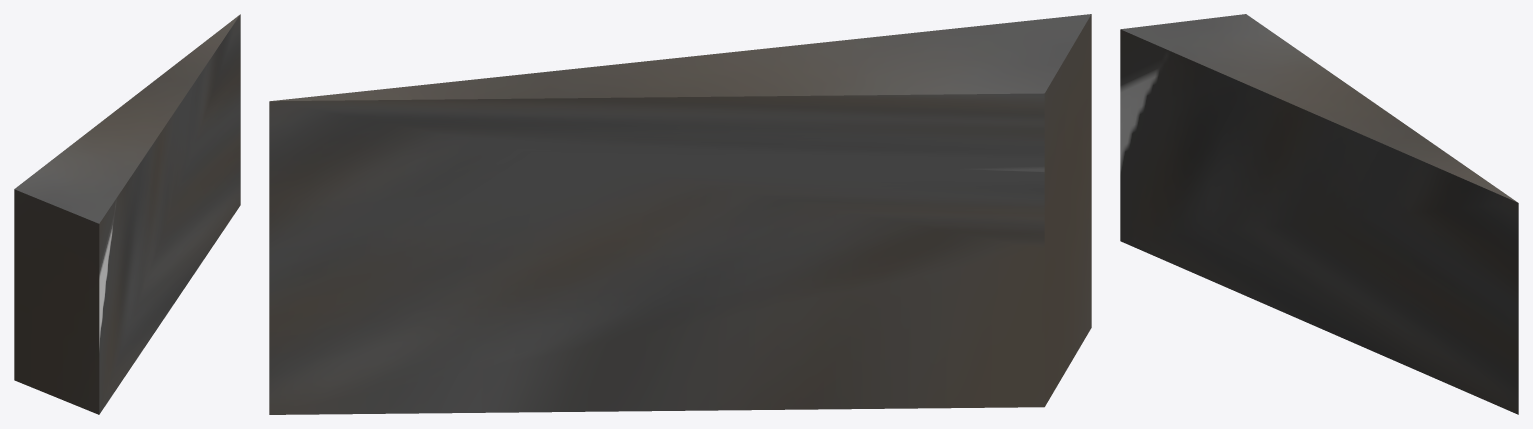
Rendered from ishi_01_10_9.fbx.
3 views of the same model, side by side, from view 1: azimuth 30°, elevation 25°; view 2: azimuth 150°, elevation 25°; view 3: azimuth 270°, elevation 25° (orthographic). The views are drawn at different scales.
Parts seen in each view (by area): view 1: polySurface17; view 2: polySurface17; view 3: polySurface17.
Part boxes in pixels (x1,y1,x2,y2): polySurface17: [14, 14, 240, 414]; polySurface17: [269, 14, 1091, 414]; polySurface17: [1120, 14, 1518, 414].
Size of the model in its own units: 8.91 by 4.66 by 7.94.
1 material, 1 textured.
